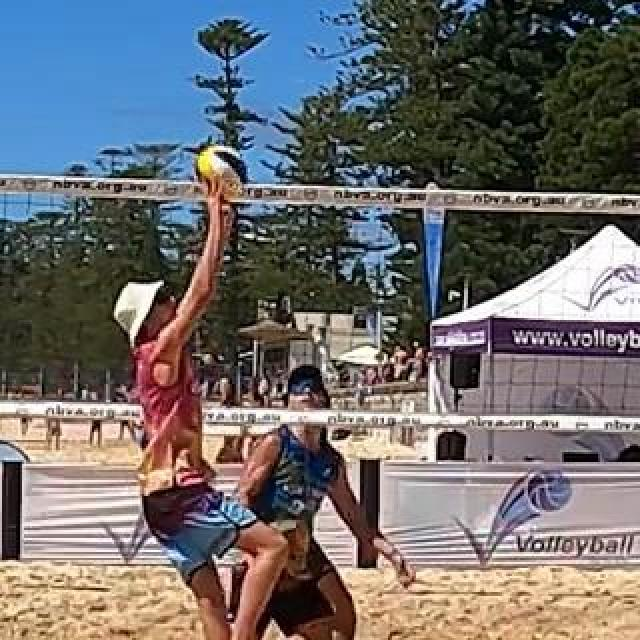volleyball: (193, 147, 247, 191)
